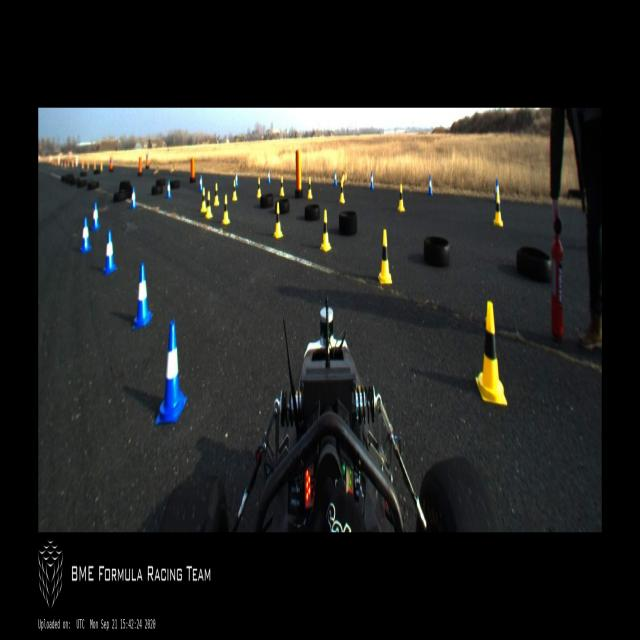blue_cone: (155, 321, 187, 423), (132, 262, 153, 328), (104, 230, 118, 276), (80, 216, 92, 253), (91, 201, 101, 230), (494, 179, 501, 203), (130, 186, 136, 209), (166, 180, 172, 198), (428, 174, 432, 196), (333, 170, 338, 187), (370, 172, 374, 190), (199, 174, 203, 191), (267, 170, 271, 183), (235, 172, 238, 186)
yellow_cone: (475, 302, 507, 404), (378, 228, 392, 284), (319, 210, 332, 252), (273, 202, 283, 238), (493, 194, 503, 227), (222, 194, 230, 223), (205, 190, 212, 218), (200, 186, 207, 212), (213, 182, 220, 206), (398, 183, 404, 211), (232, 179, 238, 201), (256, 176, 262, 198), (307, 176, 313, 198), (339, 181, 345, 203), (340, 170, 347, 184), (280, 177, 284, 196)
